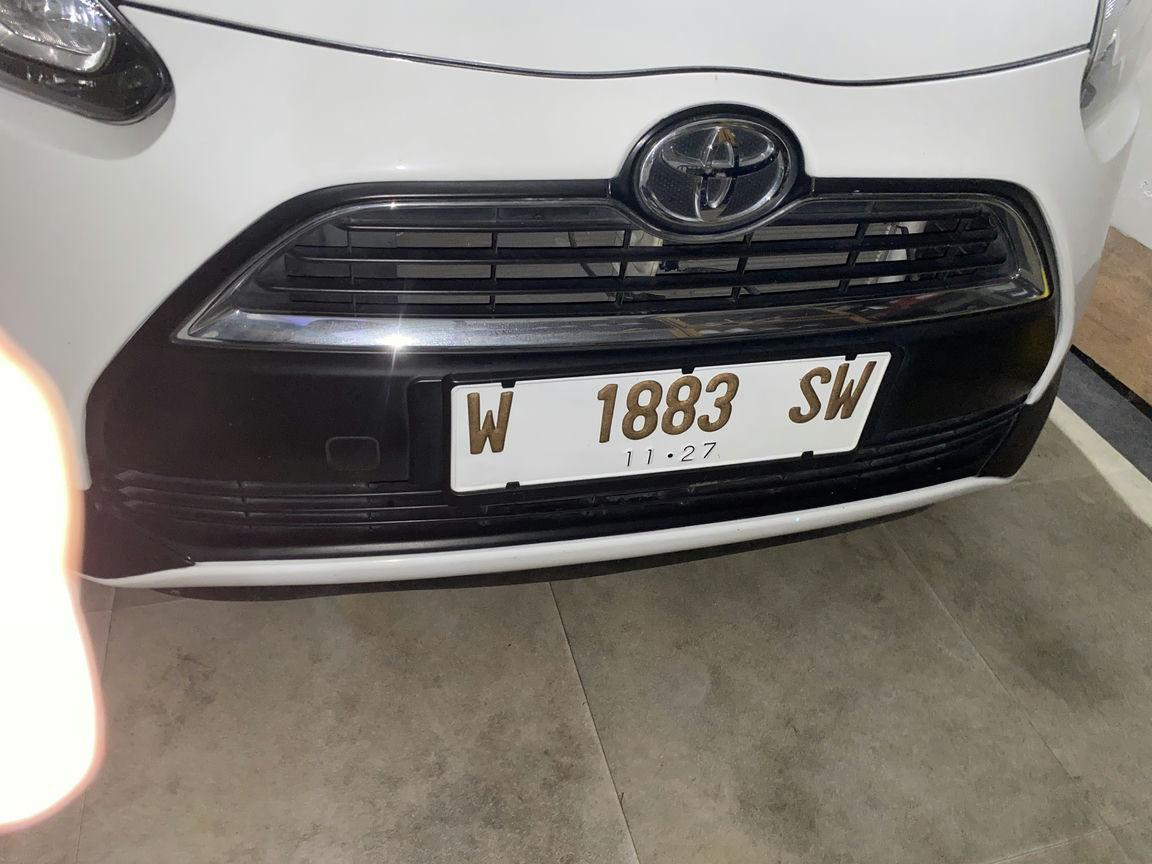plat: (450, 351, 891, 493)
